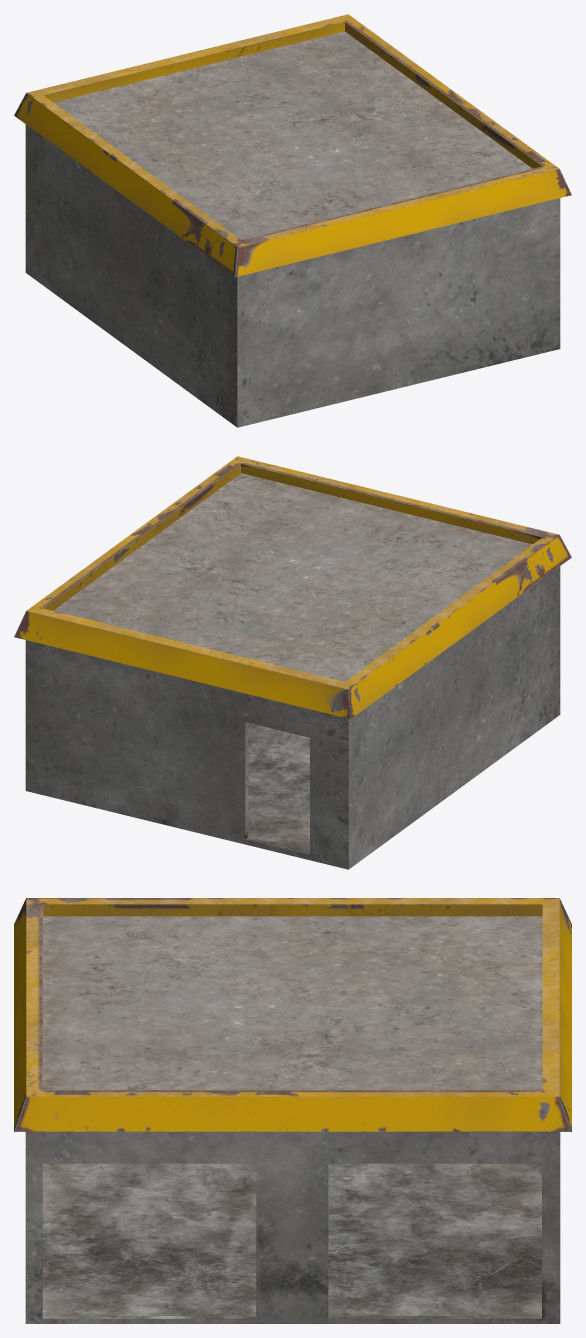
Rendered from double_garage.glb.
3 renders of one model, top to bottom at view 1: azimuth 30°, elevation 25°; view 2: azimuth 150°, elevation 25°; view 3: azimuth 270°, elevation 25°, orthographic. The views are drawn at different scales.
Visible parts, largest first — view 1: Cube; view 2: Cube; view 3: Cube.
Boxes of the visible parts, x1,y1,x2,y2 form: Cube: [14, 14, 571, 427]; Cube: [14, 456, 571, 869]; Cube: [14, 898, 571, 1323].
Bounding box in the file's own units: 633 × 323 × 719.
1 material, 1 textured.
